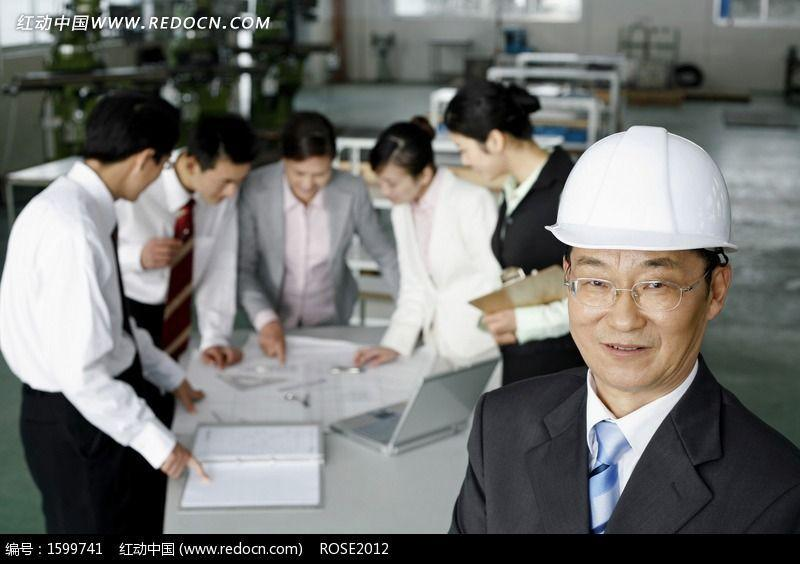helmet: (548, 127, 736, 253)
